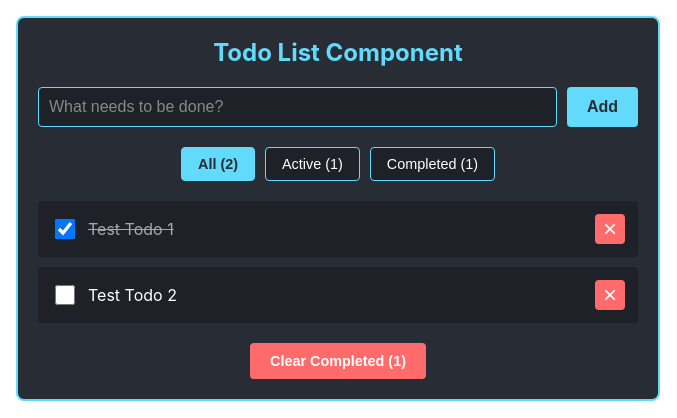
Test: TodoList › clears completed todos
The image size is (677, 418).
Click the button with test id "clear-completed-btn" at (338, 361), box [250,343,426,379]
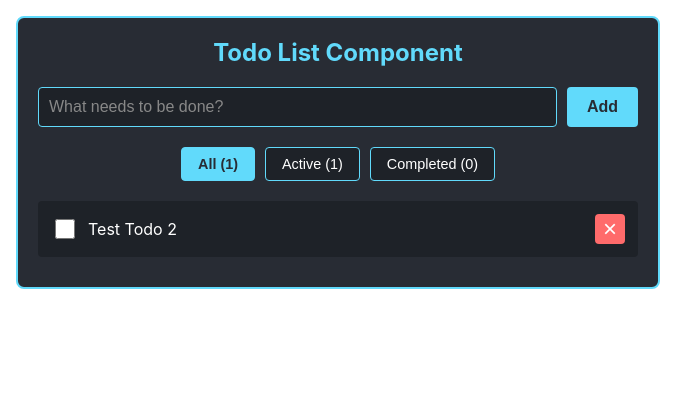
Expected: the list item with test id "2" is shown, [38,201,638,257]
Now the list item with test id "1" is gone
